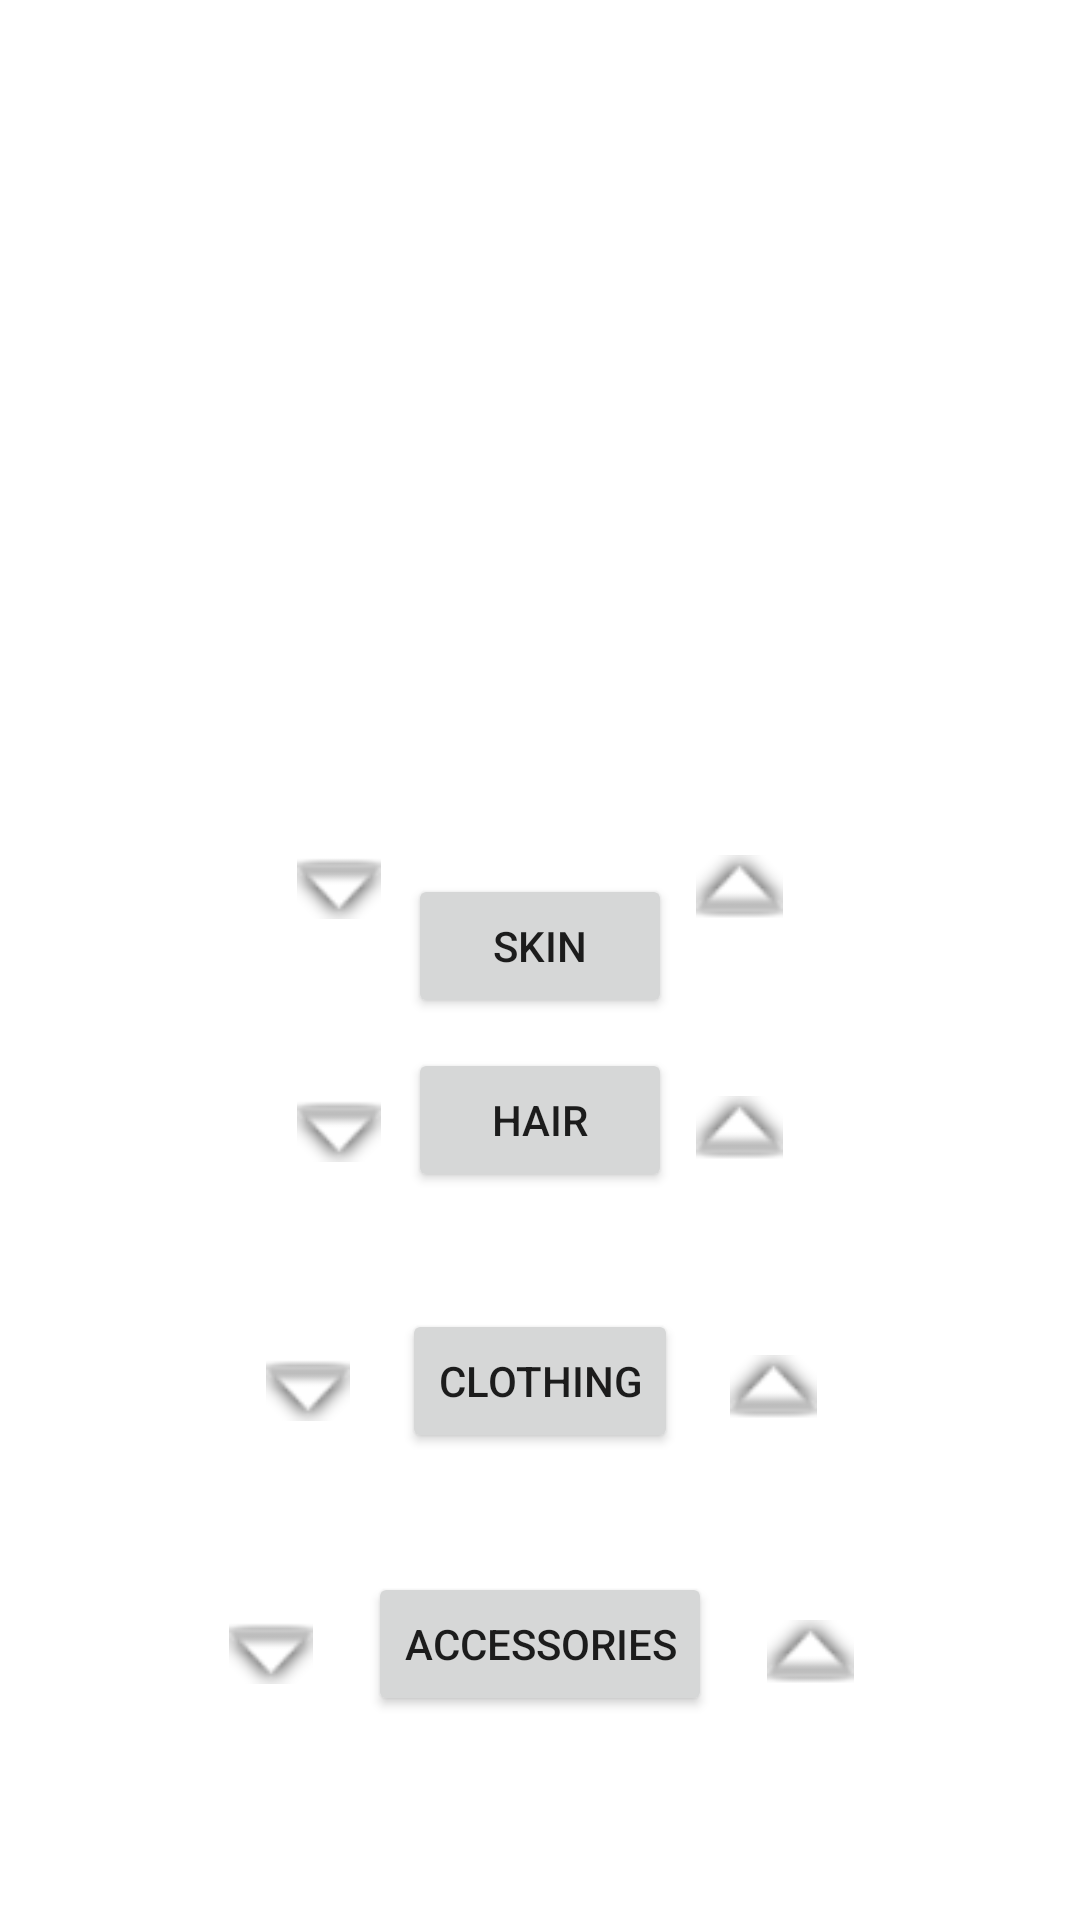

Screen size 1080 × 1920. Icon name, then its center in pixels as [x,y]:
arrow down float: [339,888], [339,1131], [308,1390], [271,1653]
arrow up float: [739,886], [739,1127], [773,1386], [810,1651]
